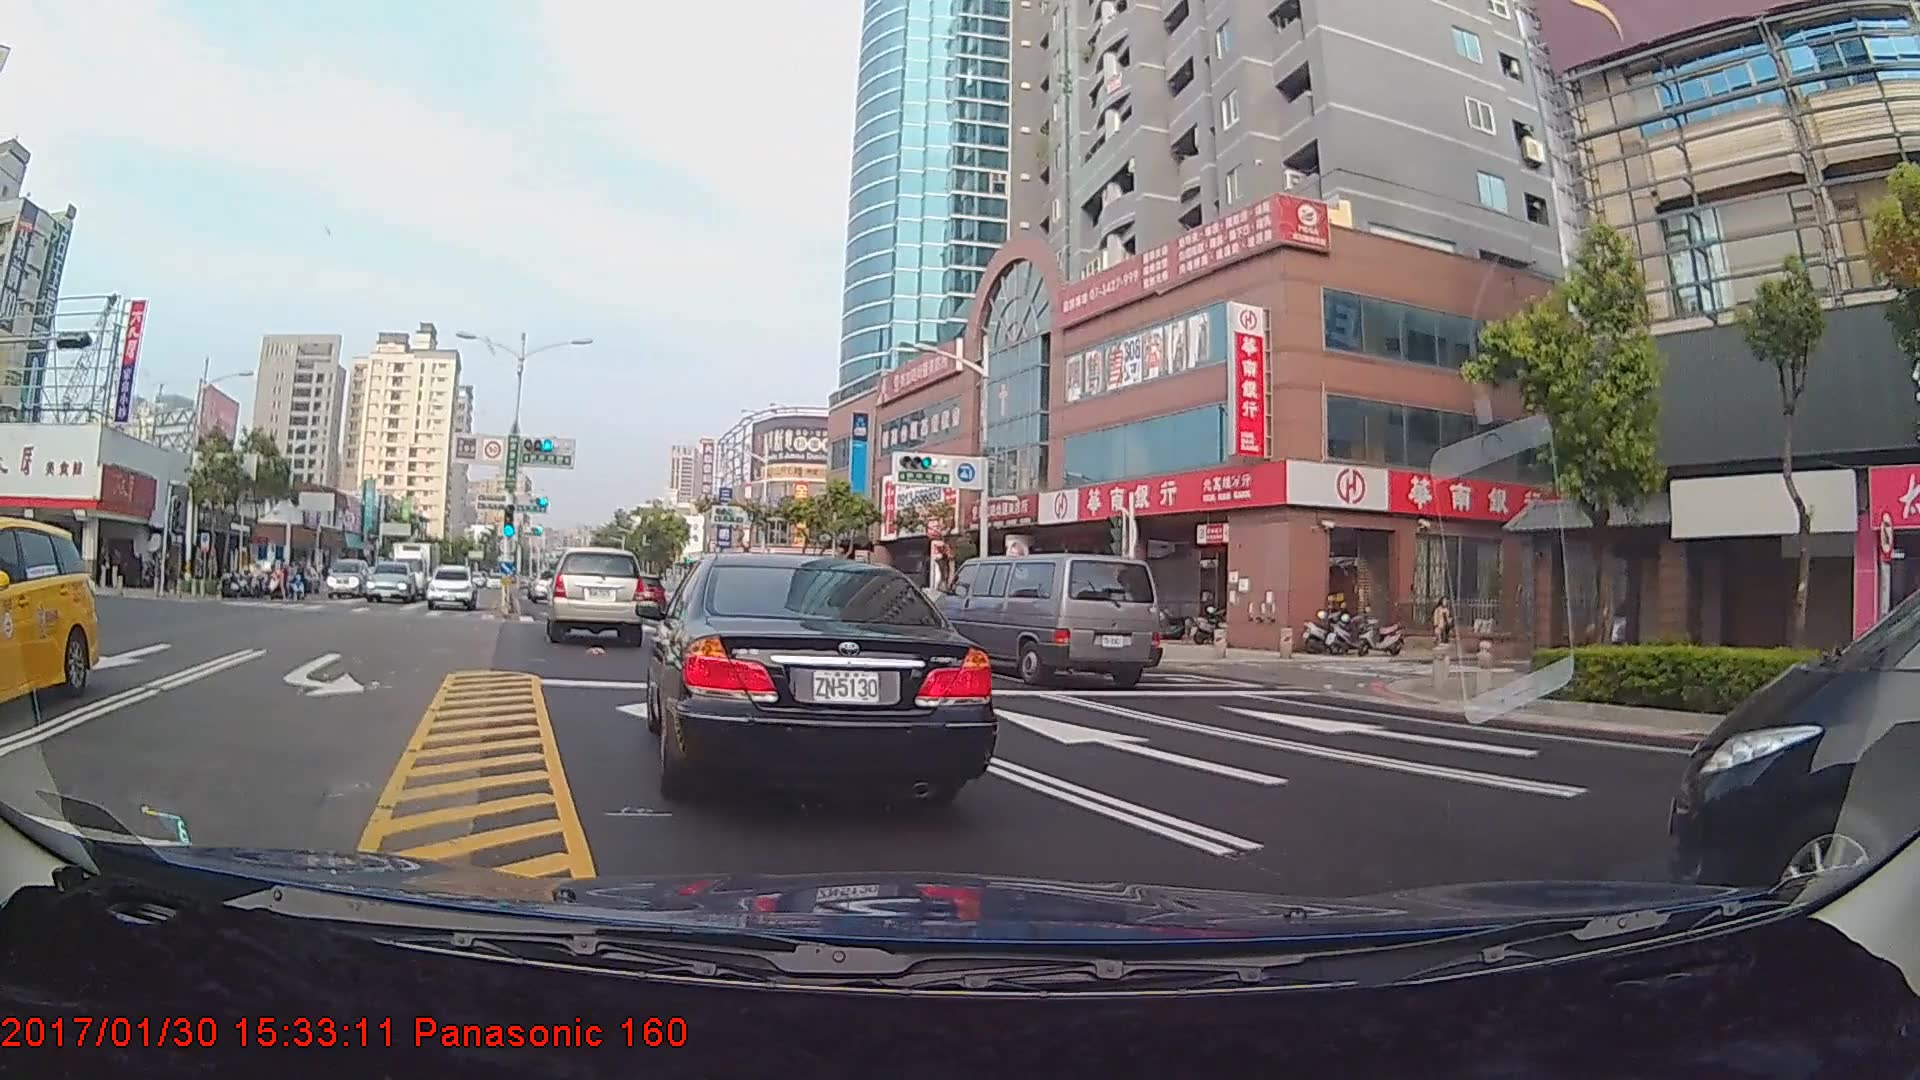pedestrian: (1432, 596, 1456, 660)
vehicle: (1668, 517, 1916, 896), (654, 546, 992, 800), (927, 551, 1160, 690), (0, 515, 97, 716), (546, 547, 644, 642), (392, 537, 446, 597), (364, 561, 418, 605), (426, 564, 476, 611), (325, 556, 371, 599), (526, 567, 565, 602)
